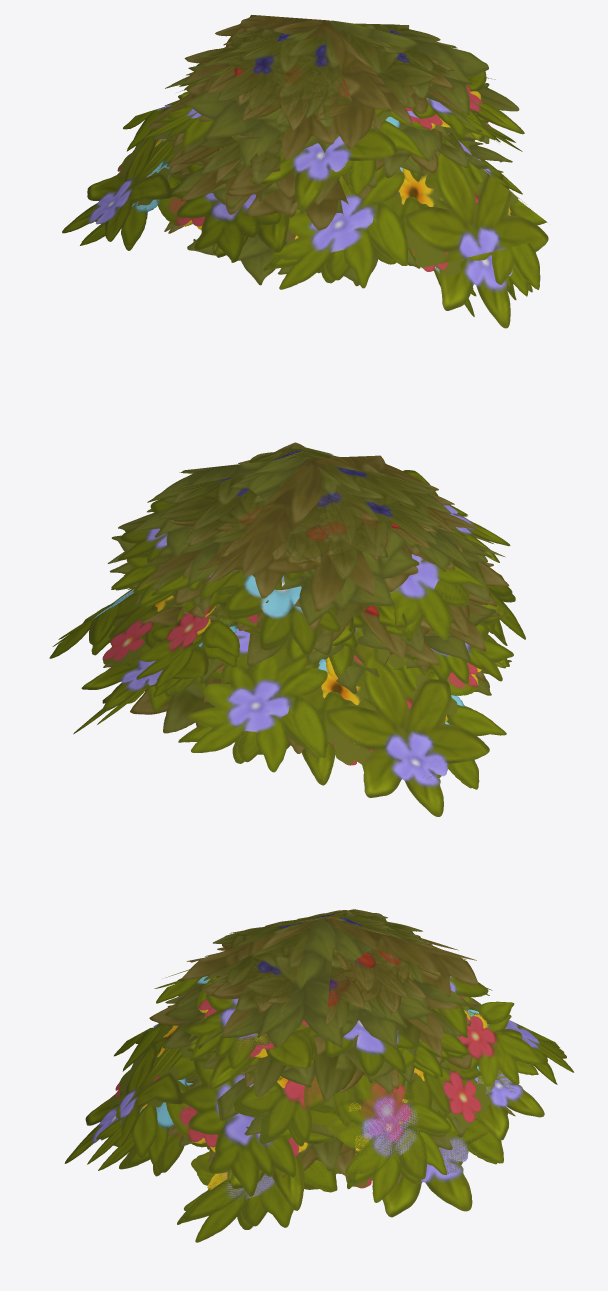
The model's file is bushes.fbx.
The picture shows the model from 3 angles, top to bottom: view 1: azimuth 30°, elevation 25°; view 2: azimuth 150°, elevation 25°; view 3: azimuth 270°, elevation 25°; orthographic projection. The views are drawn at different scales.
Parts seen in each view (by area): view 1: bush.001, bush.006, bush.005, bush.008, bush.003, bush.007, bush.002, bush.004; view 2: bush.001, bush.006, bush.003, bush.008, bush.005, bush.007, bush.002, bush.004; view 3: bush.001, bush.003, bush.006, bush.008, bush.005, bush.007, bush.002, bush.004.
Part boxes in pixels (x1=…): bush.001: x1=62, y1=97, x2=548, y2=328; bush.006: x1=152, y1=23, x2=519, y2=286; bush.005: x1=168, y1=15, x2=491, y2=249; bush.008: x1=149, y1=20, x2=512, y2=285; bush.003: x1=80, y1=71, x2=547, y2=310; bush.007: x1=148, y1=23, x2=506, y2=233; bush.002: x1=82, y1=62, x2=528, y2=316; bush.004: x1=81, y1=84, x2=540, y2=312; bush.001: x1=49, y1=470, x2=525, y2=816; bush.006: x1=107, y1=445, x2=505, y2=757; bush.003: x1=53, y1=505, x2=512, y2=789; bush.008: x1=110, y1=456, x2=511, y2=695; bush.005: x1=140, y1=455, x2=499, y2=702; bush.007: x1=103, y1=442, x2=509, y2=753; bush.002: x1=52, y1=514, x2=515, y2=788; bush.004: x1=98, y1=514, x2=509, y2=788; bush.001: x1=64, y1=969, x2=574, y2=1242; bush.003: x1=87, y1=976, x2=564, y2=1226; bush.006: x1=163, y1=909, x2=515, y2=1170; bush.008: x1=165, y1=916, x2=474, y2=1164; bush.005: x1=167, y1=918, x2=477, y2=1178; bush.007: x1=149, y1=909, x2=470, y2=1183; bush.002: x1=98, y1=976, x2=566, y2=1229; bush.004: x1=88, y1=979, x2=559, y2=1223.
Size of the model in its own units: 360 by 215 by 323.
Materials: 2 (2 with a texture image).
